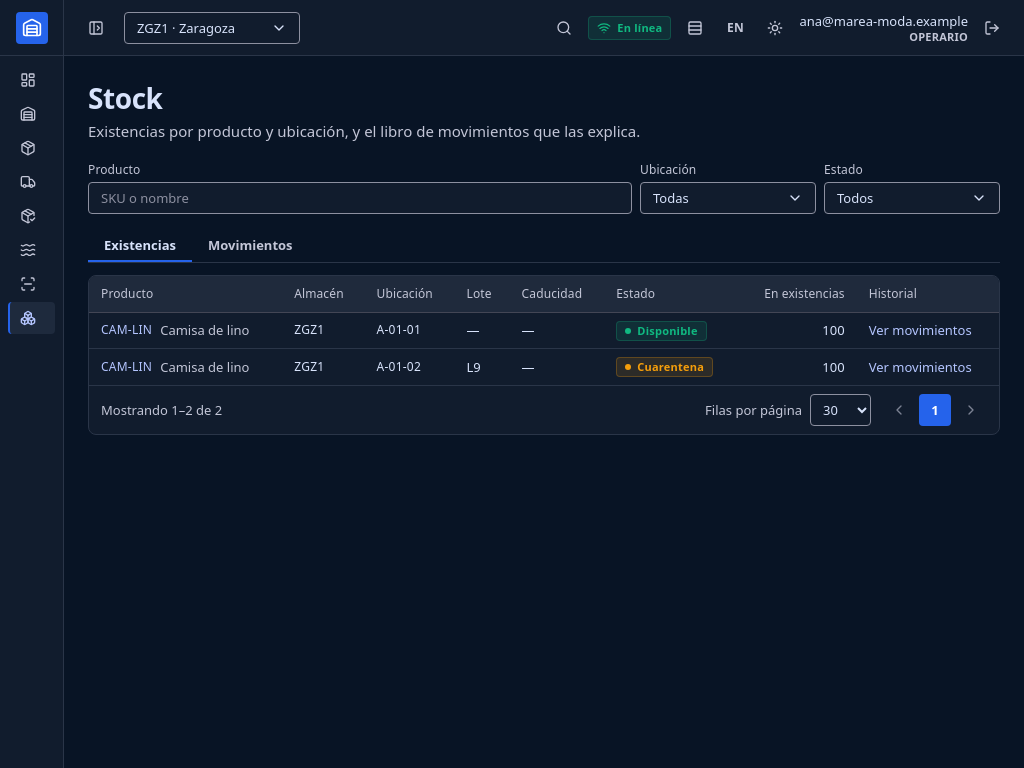
it: the stock › filters by a product found by typing, and lets it go again
Check: the text "A-01-02" is shown, box [364,348,454,384]
Type "camisa" into the search field labelled "Producto" at x=360, y=198, box [88,182,632,214]
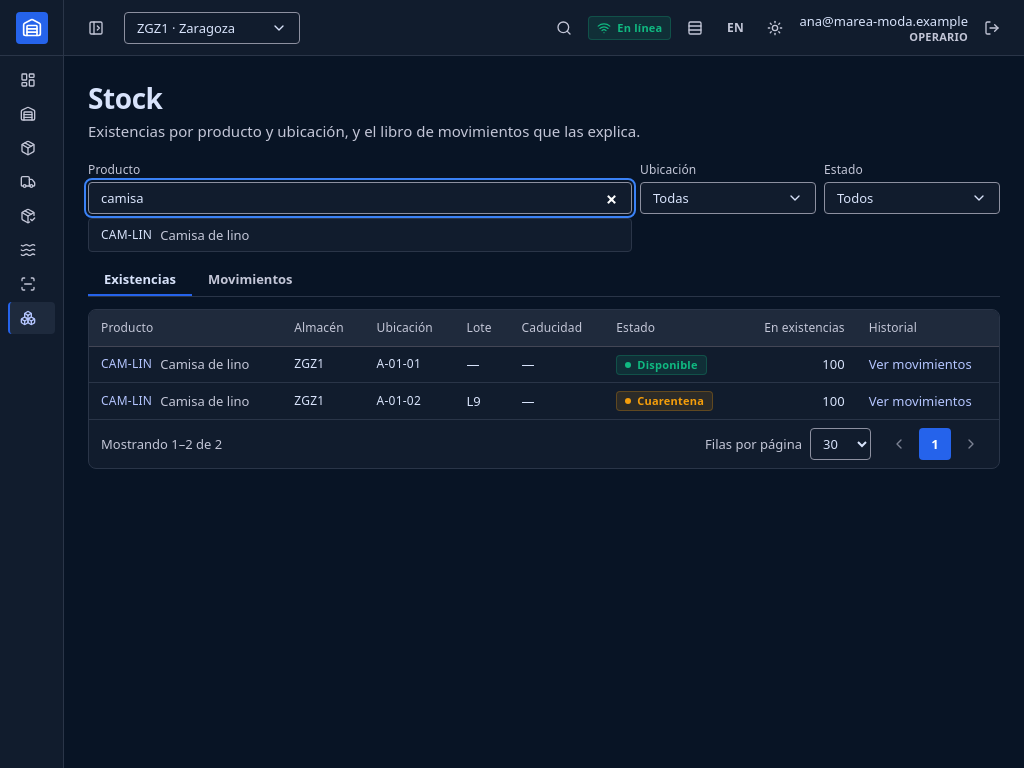
Click the button "CAM-LIN Camisa de lino" at x=127, y=234, box [89,219,631,251]
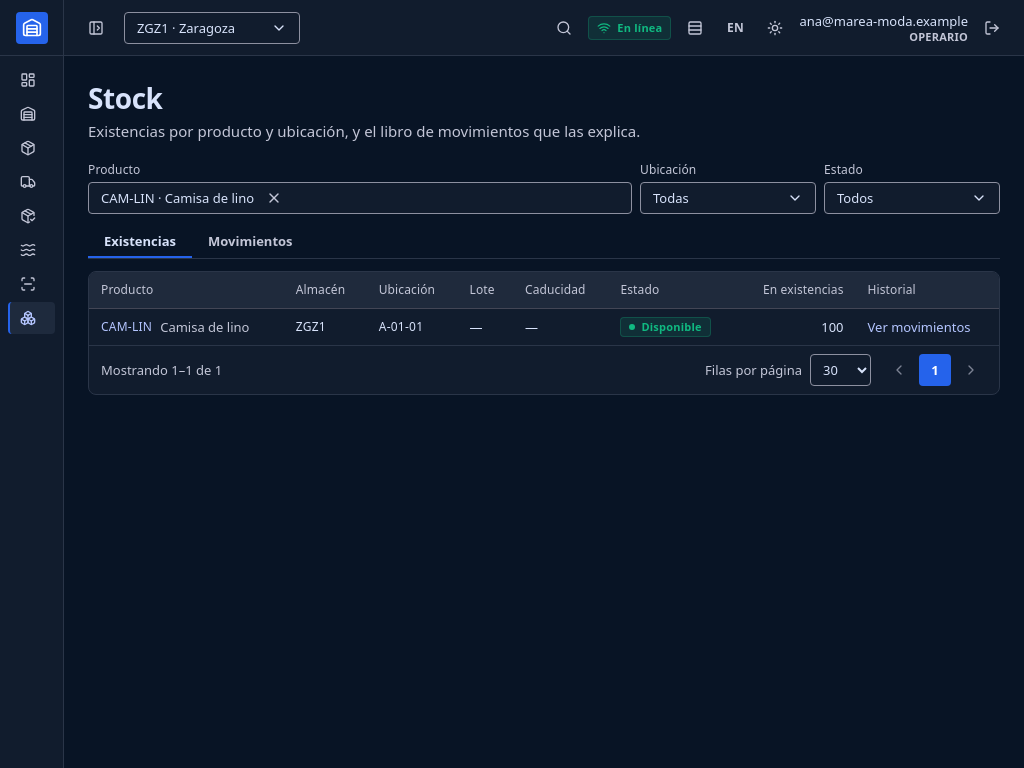
Check: the element "existencias" is shown, box [89,272,999,344]
Check: the text "CAM-LIN · Camisa de lino" is shown, box [101,189,254,207]
Click the button named "Quitar el producto" at x=274, y=198, box [258,182,290,214]
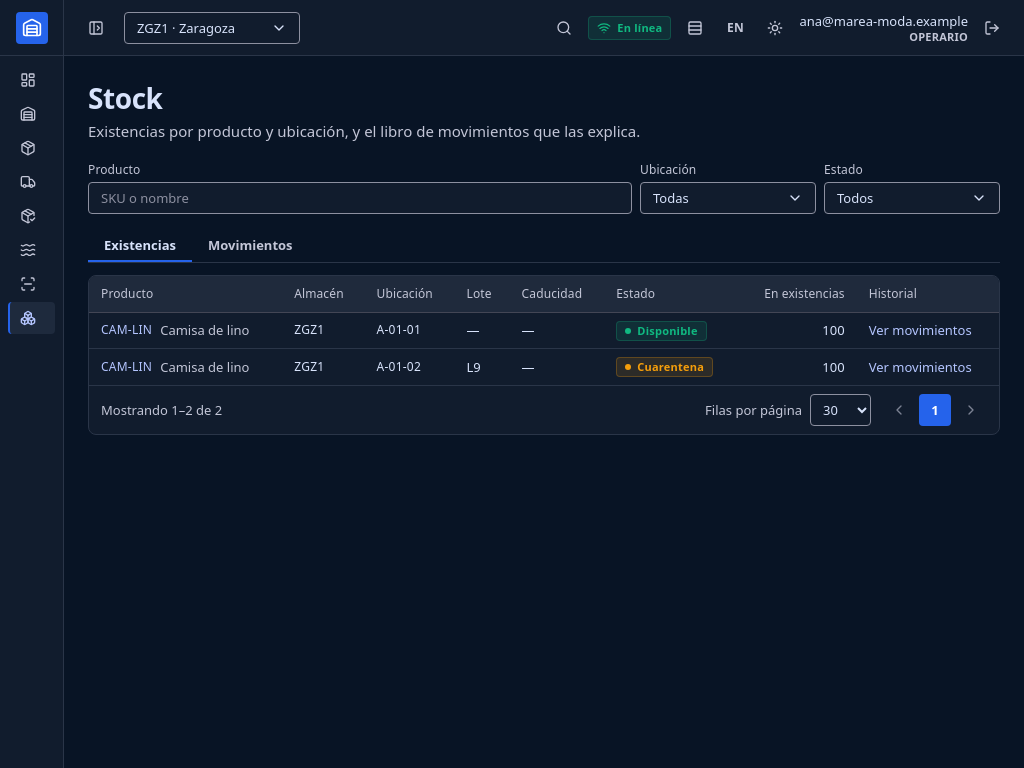
Check: the search field labelled "Producto" is shown, box [88,182,632,214]
